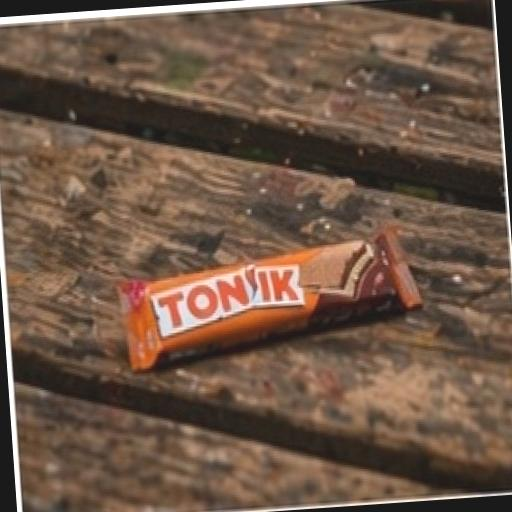tonik: (56, 176, 468, 432)
